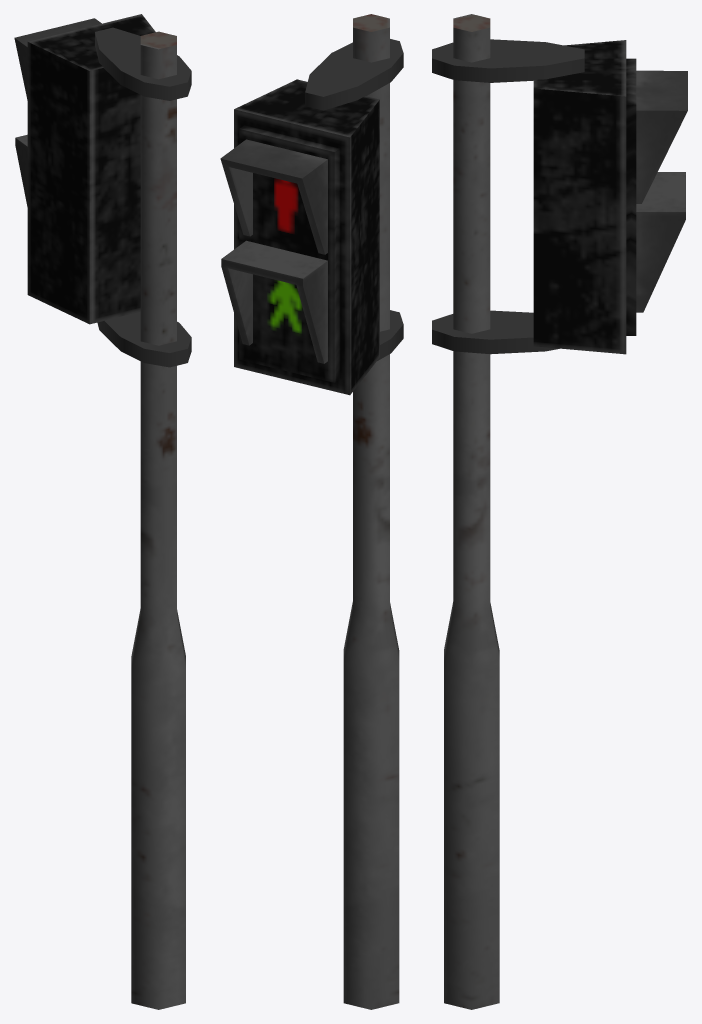
The model's file is TRF0410002.fbx.
3 views of the same model, side by side, from view 1: azimuth 30°, elevation 25°; view 2: azimuth 150°, elevation 25°; view 3: azimuth 270°, elevation 25° (orthographic).
Parts seen in each view (by area): view 1: smTRF0410002; view 2: smTRF0410002; view 3: smTRF0410002.
Boxes of the visible parts, bbox=[...] form: smTRF0410002: bbox=[14, 14, 191, 1009]; smTRF0410002: bbox=[220, 14, 403, 1009]; smTRF0410002: bbox=[432, 14, 687, 1009].
Size of the model in its own units: 27.57 by 221 by 52.65.
1 material, 1 textured.
